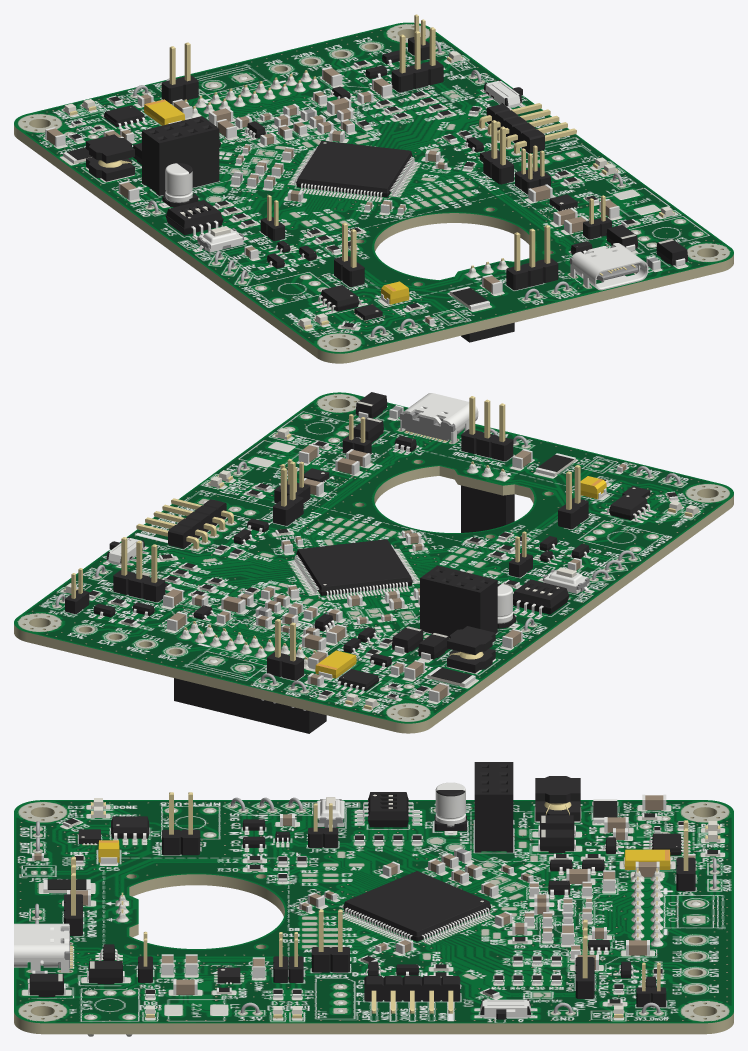
File: armi-pcb.glb
The picture shows the model from 3 angles, top to bottom: view 1: azimuth 30°, elevation 25°; view 2: azimuth 150°, elevation 25°; view 3: azimuth 270°, elevation 25°; orthographic projection. The views are drawn at different scales.
Parts seen in each view (by area): view 1: PCB_260513_pcb2blender, LQFP-100_14x14mm_P0.5mm, PinSocket_2x04_P2.54mm_Vertical, PinHeader_1x05_P2.54mm_Horizontal, USB_C_Receptacle_GCT_USB4105-xx-A_16P_TopMnt_Horizontal, PinHeader_1x03_P2.54mm_Vertical.001, PinHeader_1x03_P2.54mm_Vertical, L_Bourns_SRN6045TA, SW_DIP_SPSTx04_Slide_KingTek_DSHP04TS_W7.62mm_P1.27mm, PinHeader_1x02_P2.54mm_Vertical.002, CP_Elec_4x5.4, PinHeader_1x02_P2.54mm_Vertical (+11 smaller); view 2: PCB_260513_pcb2blender, LQFP-100_14x14mm_P0.5mm, PinSocket_2x04_P2.54mm_Vertical, PinSocket_2x09_P2.54mm_Vertical, PinHeader_1x05_P2.54mm_Horizontal, USB_C_Receptacle_GCT_USB4105-xx-A_16P_TopMnt_Horizontal, PinSocket_1x03_P2.54mm_Vertical, PinHeader_1x03_P2.54mm_Vertical.001, PinHeader_1x03_P2.54mm_Vertical, L_Bourns_SRN6045TA, SW_DIP_SPSTx04_Slide_KingTek_DSHP04TS_W7.62mm_P1.27mm, PinHeader_1x02_P2.54mm_Vertical.002 (+16 smaller); view 3: PCB_260513_pcb2blender, LQFP-100_14x14mm_P0.5mm, PinSocket_2x04_P2.54mm_Vertical, PinHeader_1x05_P2.54mm_Horizontal, USB_C_Receptacle_GCT_USB4105-xx-A_16P_TopMnt_Horizontal, L_Bourns_SRN6045TA, SW_DIP_SPSTx04_Slide_KingTek_DSHP04TS_W7.62mm_P1.27mm, CP_Elec_4x5.4, PinHeader_1x02_P2.54mm_Vertical, PinHeader_1x02_P2.54mm_Vertical.001, PinHeader_1x03_P2.54mm_Vertical, SW_SPDT_PCM12 (+18 smaller).
Part boxes in pixels (<box>): PCB_260513_pcb2blender: <box>14,22,733,363</box>; LQFP-100_14x14mm_P0.5mm: <box>291,140,417,200</box>; PinSocket_2x04_P2.54mm_Vertical: <box>142,116,219,195</box>; PinHeader_1x05_P2.54mm_Horizontal: <box>479,103,576,154</box>; USB_C_Receptacle_GCT_USB4105-xx-A_16P_TopMnt_Horizontal: <box>570,243,648,290</box>; PinHeader_1x03_P2.54mm_Vertical.001: <box>506,225,558,290</box>; PinHeader_1x03_P2.54mm_Vertical: <box>391,27,443,92</box>; L_Bourns_SRN6045TA: <box>86,134,134,181</box>; SW_DIP_SPSTx04_Slide_KingTek_DSHP04TS_W7.62mm_P1.27mm: <box>165,200,223,238</box>; PinHeader_1x02_P2.54mm_Vertical.002: <box>161,42,198,103</box>; CP_Elec_4x5.4: <box>161,163,198,207</box>; PinHeader_1x02_P2.54mm_Vertical: <box>483,120,513,184</box>; PCB_260513_pcb2blender: <box>14,392,733,733</box>; LQFP-100_14x14mm_P0.5mm: <box>291,539,417,598</box>; PinSocket_2x04_P2.54mm_Vertical: <box>420,565,497,637</box>; PinSocket_2x09_P2.54mm_Vertical: <box>174,621,326,733</box>; PinHeader_1x05_P2.54mm_Horizontal: <box>136,498,233,549</box>; USB_C_Receptacle_GCT_USB4105-xx-A_16P_TopMnt_Horizontal: <box>400,393,478,443</box>; PinSocket_1x03_P2.54mm_Vertical: <box>461,461,514,532</box>; PinHeader_1x03_P2.54mm_Vertical.001: <box>461,396,513,461</box>; PinHeader_1x03_P2.54mm_Vertical: <box>113,537,165,602</box>; L_Bourns_SRN6045TA: <box>447,626,495,673</box>; SW_DIP_SPSTx04_Slide_KingTek_DSHP04TS_W7.62mm_P1.27mm: <box>513,579,569,617</box>; PinHeader_1x02_P2.54mm_Vertical.002: <box>267,619,303,680</box>; PCB_260513_pcb2blender: <box>14,800,733,1034</box>; LQFP-100_14x14mm_P0.5mm: <box>342,871,492,942</box>; PinSocket_2x04_P2.54mm_Vertical: <box>474,762,513,852</box>; PinHeader_1x05_P2.54mm_Horizontal: <box>364,976,460,1013</box>; USB_C_Receptacle_GCT_USB4105-xx-A_16P_TopMnt_Horizontal: <box>14,923,72,972</box>; L_Bourns_SRN6045TA: <box>535,776,580,821</box>; SW_DIP_SPSTx04_Slide_KingTek_DSHP04TS_W7.62mm_P1.27mm: <box>357,792,419,827</box>; CP_Elec_4x5.4: <box>434,782,466,833</box>; PinHeader_1x02_P2.54mm_Vertical: <box>311,909,349,972</box>; PinHeader_1x02_P2.54mm_Vertical.001: <box>162,792,200,855</box>; PinHeader_1x03_P2.54mm_Vertical: <box>575,919,594,998</box>; SW_SPDT_PCM12: <box>476,999,534,1019</box>.
Size of the model in its own units: 0.0699 by 0.0186 by 0.0952.
29 materials, 2 textured.
